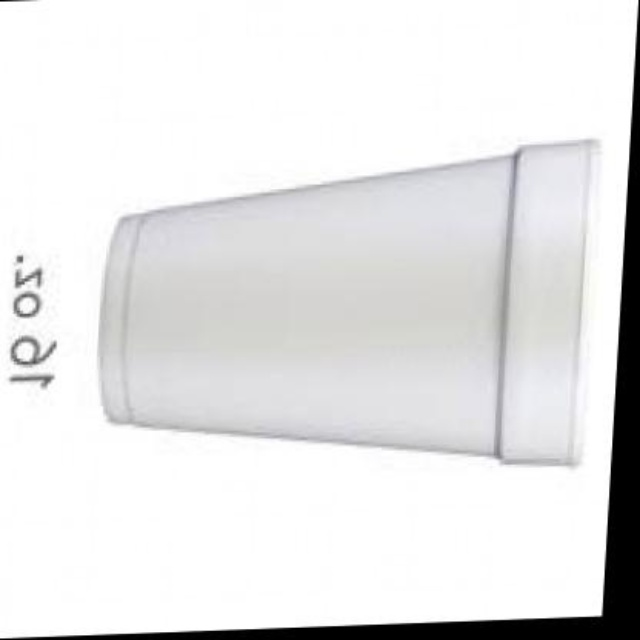trash: (100, 142, 595, 462)
